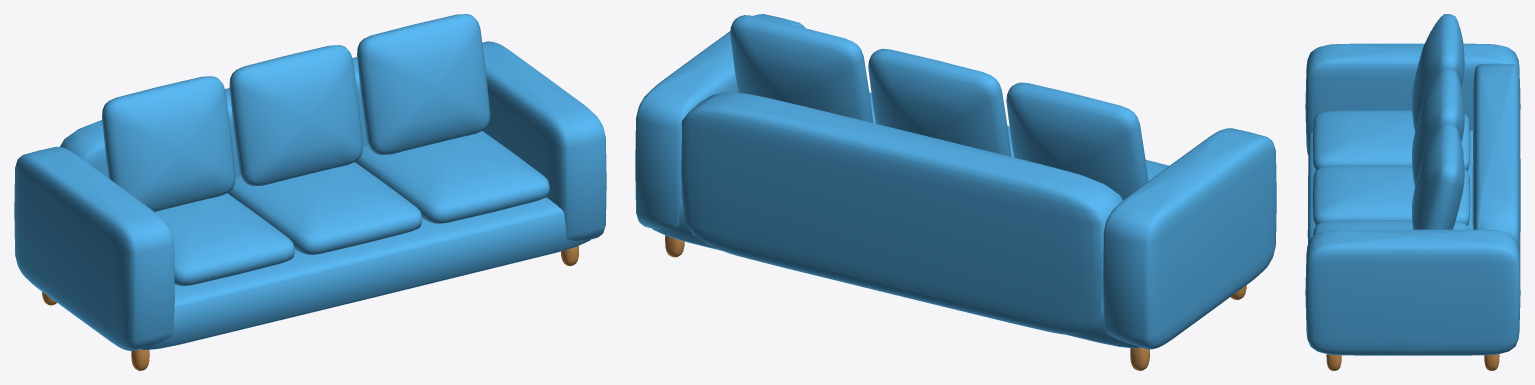
The model's file is sofa_classico_azul_celeste.glb.
The picture shows the model from 3 angles, left to right: view 1: azimuth 30°, elevation 25°; view 2: azimuth 150°, elevation 25°; view 3: azimuth 270°, elevation 25°; orthographic projection. The views are drawn at different scales.
Parts seen in each view (by area): view 1: sofa_classico_azul_celeste; view 2: sofa_classico_azul_celeste; view 3: sofa_classico_azul_celeste.
Part boxes in pixels (box(x1,y1,x2,y2)): sofa_classico_azul_celeste: box(14, 14, 606, 370); sofa_classico_azul_celeste: box(635, 14, 1276, 370); sofa_classico_azul_celeste: box(1305, 14, 1520, 370).
Bounding box in the file's own units: 2.05 × 0.8707 × 0.9.
1 material, 1 textured.
